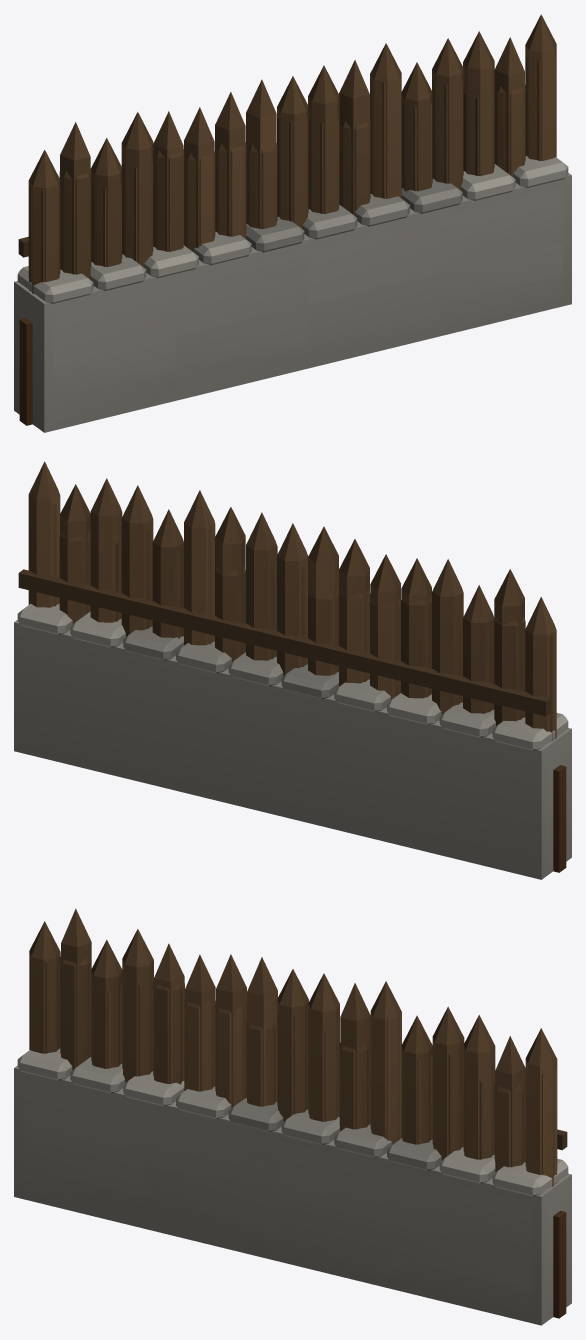
Rendered from fences.glb.
The picture shows the model from 3 angles, top to bottom: view 1: azimuth 30°, elevation 25°; view 2: azimuth 150°, elevation 25°; view 3: azimuth 330°, elevation 25°; orthographic projection.
Parts seen in each view (by area): view 1: fence_stone, fence_palisade, fence_palisade__lod, fence_stone__lod, fence_rail__lod, fence_rail; view 2: fence_stone__lod, fence_palisade, fence_palisade__lod, fence_stone, fence_rail__lod, fence_rail; view 3: fence_stone, fence_palisade, fence_palisade__lod, fence_stone__lod, fence_rail__lod.
Part boxes in pixels (x1=…): fence_stone: x1=17, y1=156, x2=568, y2=421; fence_palisade: x1=19, y1=14, x2=556, y2=293; fence_palisade__lod: x1=18, y1=37, x2=555, y2=291; fence_stone__lod: x1=14, y1=173, x2=571, y2=432; fence_rail__lod: x1=19, y1=318, x2=32, y2=425; fence_rail: x1=20, y1=319, x2=32, y2=423; fence_stone__lod: x1=14, y1=620, x2=571, y2=879; fence_palisade: x1=20, y1=461, x2=556, y2=739; fence_palisade__lod: x1=18, y1=484, x2=552, y2=741; fence_stone: x1=17, y1=603, x2=568, y2=865; fence_rail__lod: x1=553, y1=765, x2=566, y2=872; fence_rail: x1=554, y1=765, x2=565, y2=869; fence_stone: x1=17, y1=1048, x2=568, y2=1314; fence_palisade: x1=29, y1=921, x2=566, y2=1186; fence_palisade__lod: x1=30, y1=908, x2=567, y2=1183; fence_stone__lod: x1=14, y1=1065, x2=571, y2=1325; fence_rail__lod: x1=553, y1=1210, x2=566, y2=1318.
Bounding box in the file's own units: 6.14 × 3.17 × 0.66.
